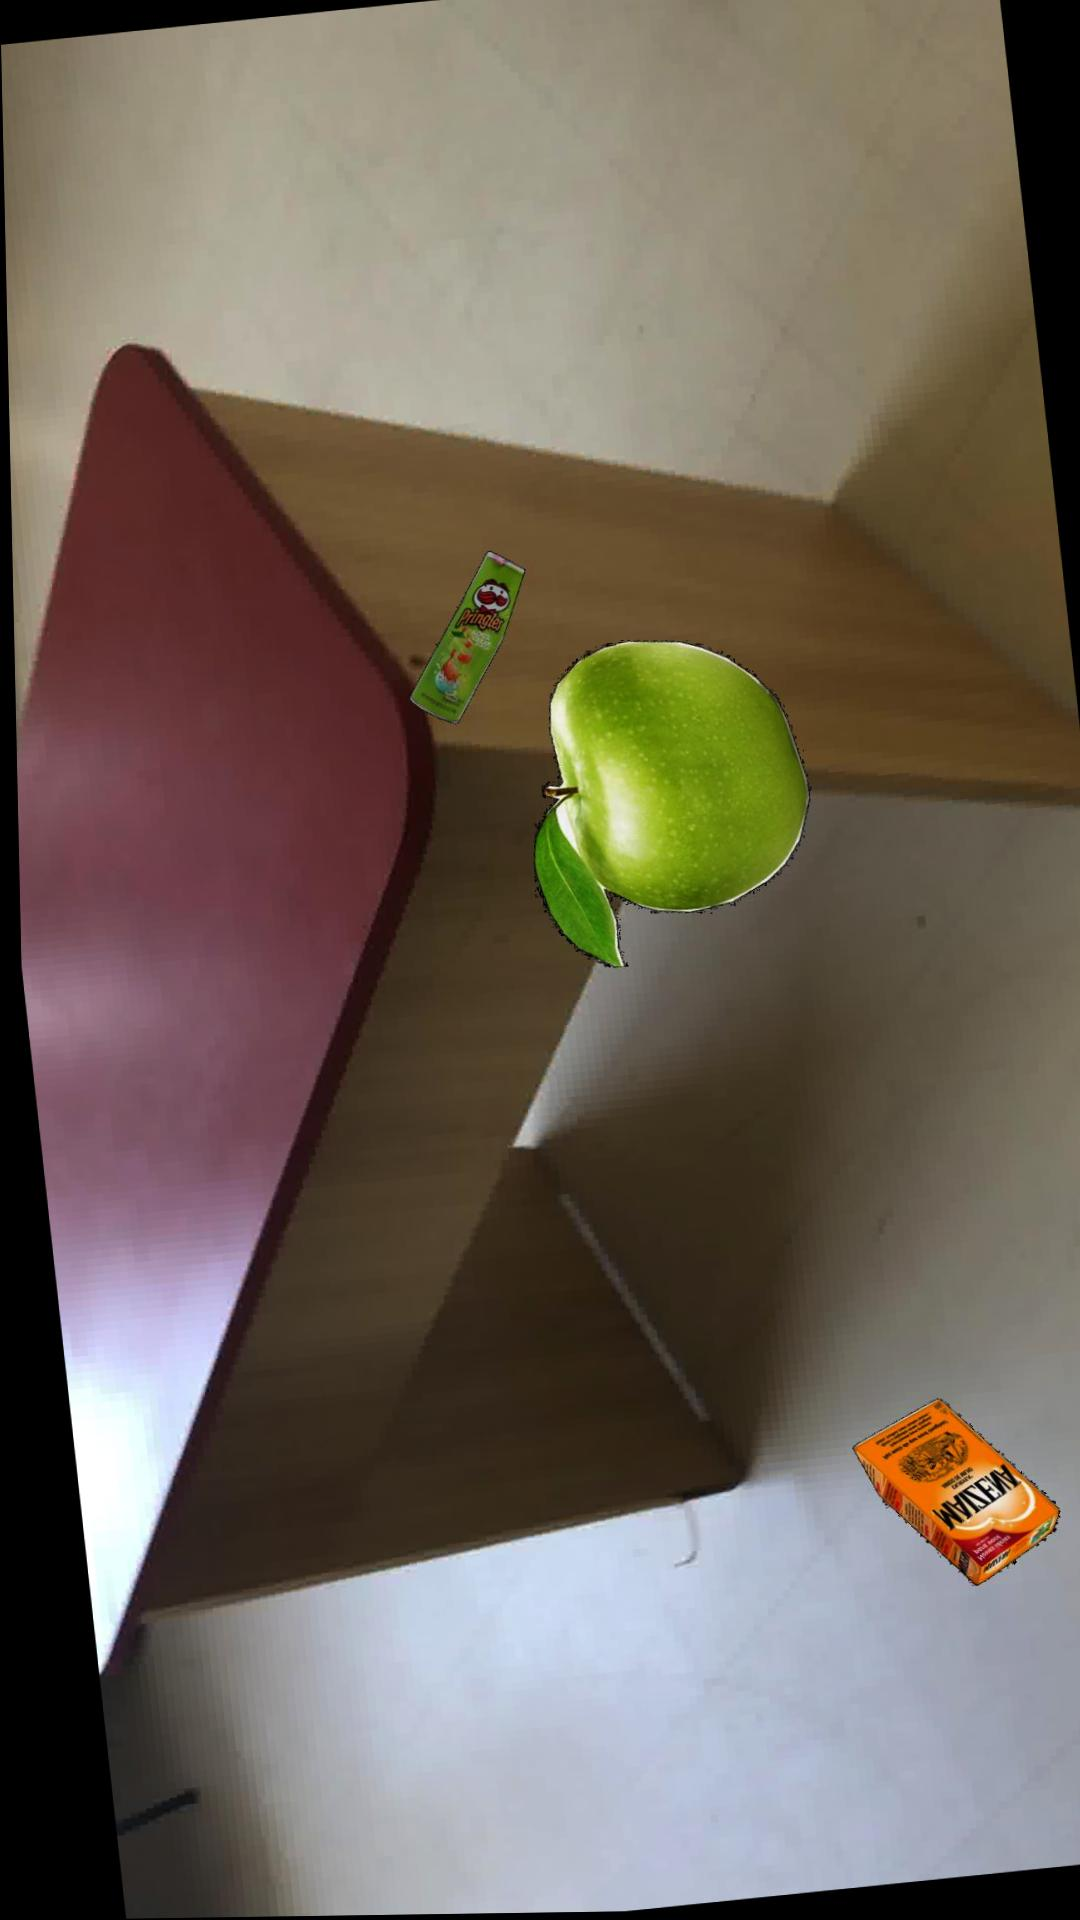green apple: (530, 642, 807, 971)
pringles: (406, 553, 524, 727)
